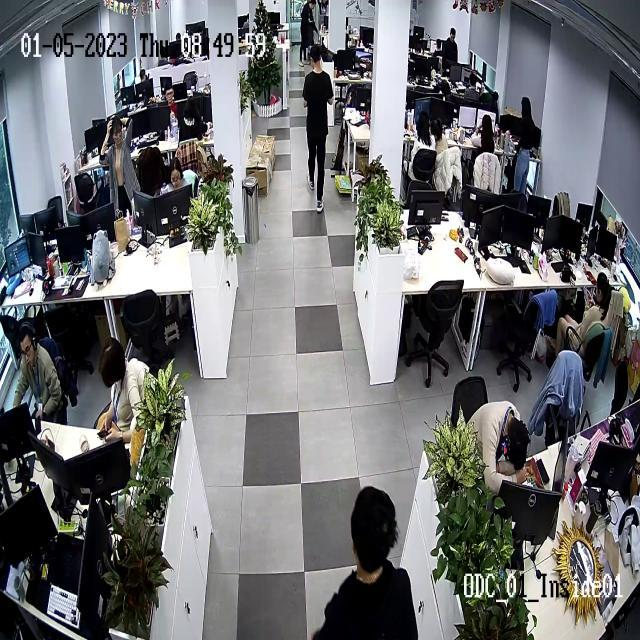person: (307, 486, 420, 639), (8, 323, 66, 426), (94, 337, 150, 442), (551, 272, 619, 358), (468, 401, 531, 487), (303, 45, 334, 211), (101, 116, 140, 216), (514, 98, 542, 191), (409, 115, 437, 179), (472, 111, 499, 171), (162, 158, 190, 201), (442, 27, 460, 70), (164, 85, 179, 129)
